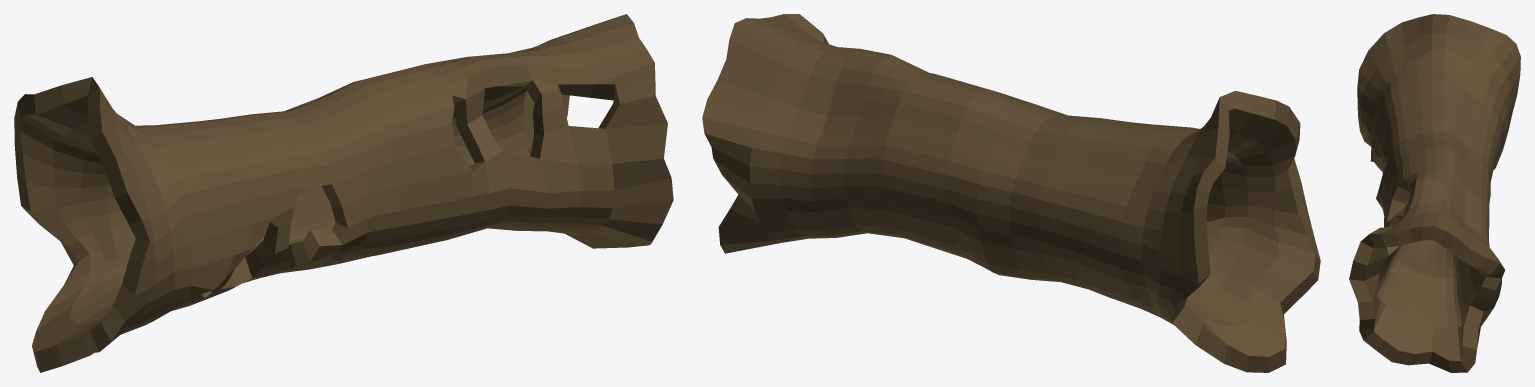
Rendered from tronco3.fbx.
The picture shows the model from 3 angles, left to right: view 1: azimuth 30°, elevation 25°; view 2: azimuth 150°, elevation 25°; view 3: azimuth 270°, elevation 25°; orthographic projection. The views are drawn at different scales.
Visible parts, largest first — view 1: Cylinder.006; view 2: Cylinder.006; view 3: Cylinder.006.
Boxes of the visible parts, x1=… form: Cylinder.006: x1=14, y1=14, x2=673, y2=372; Cylinder.006: x1=702, y1=14, x2=1320, y2=372; Cylinder.006: x1=1349, y1=14, x2=1520, y2=372.
Size of the model in its own units: 1225 by 565 by 459.
1 material, 1 textured.
